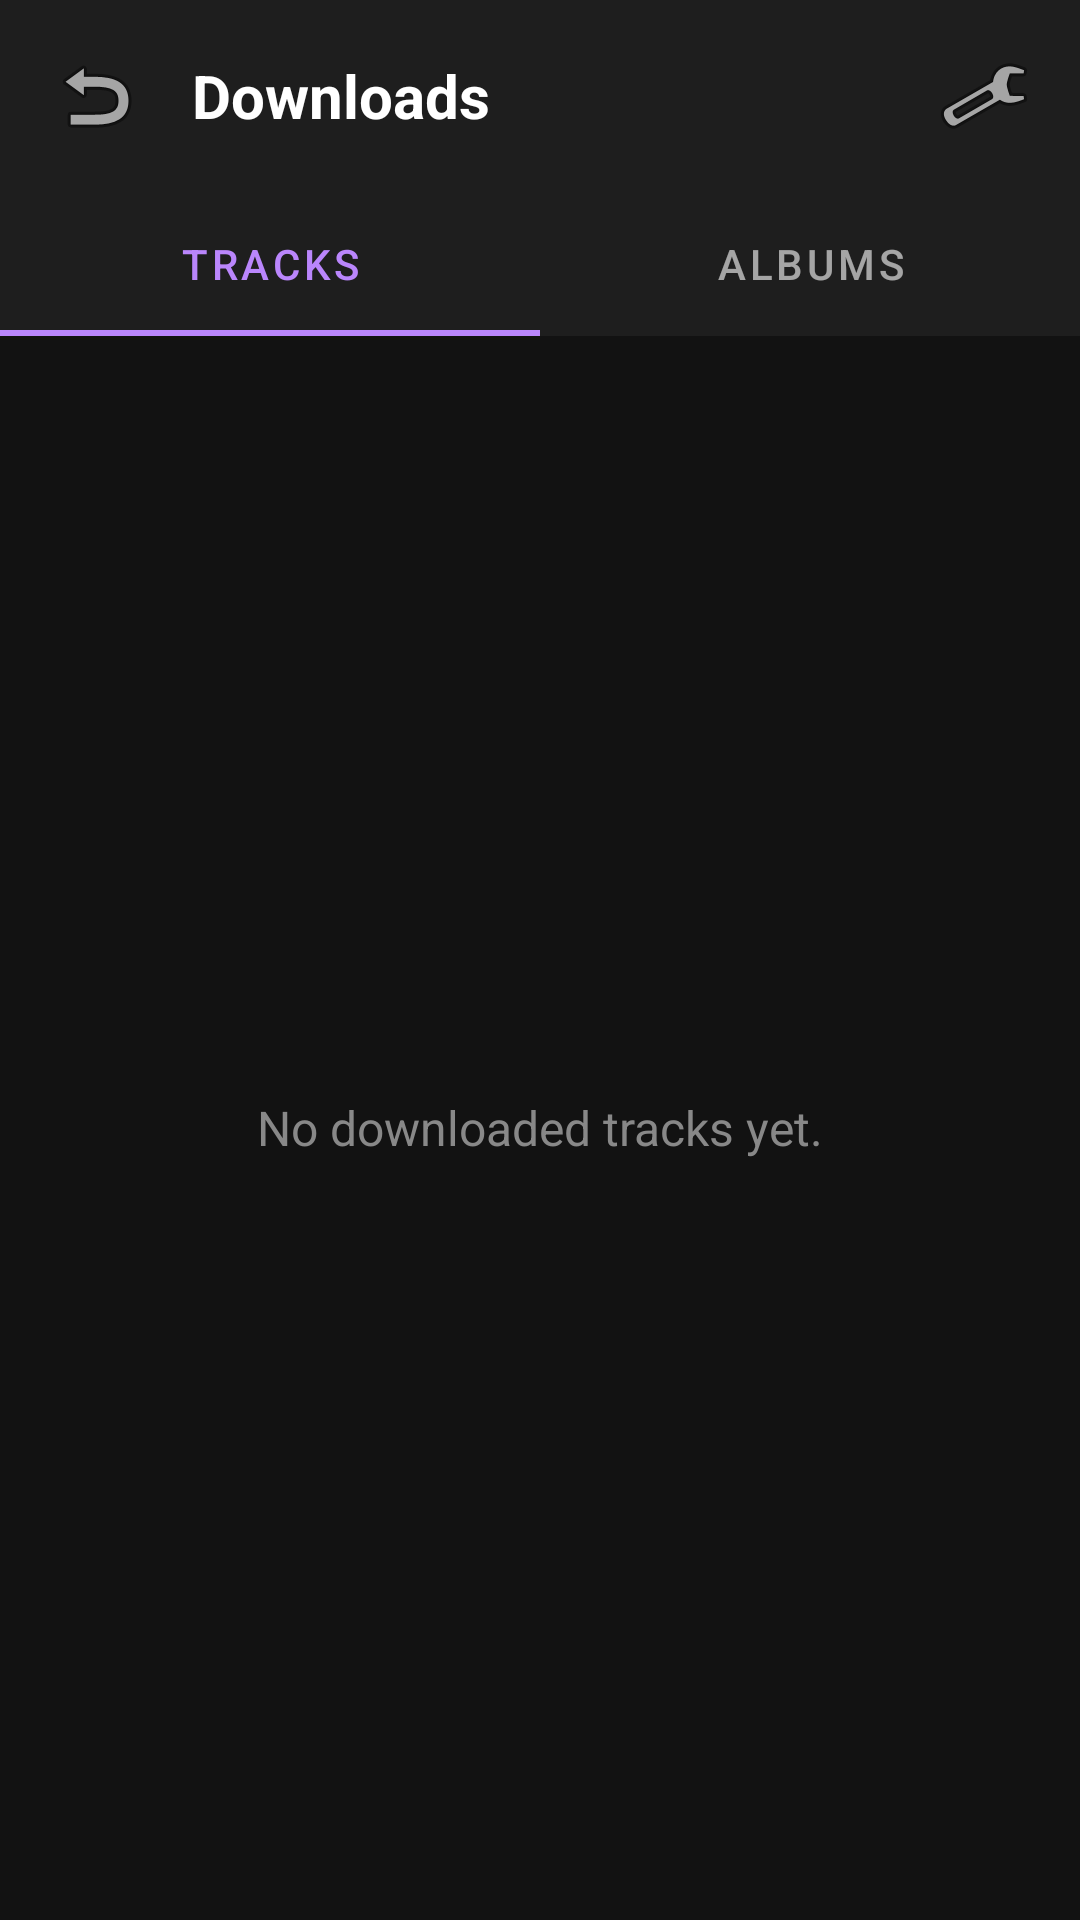

Icon bounding boxes for this 1080*1920 phone screenshot, format bbox=(x1, y1, x2, y2):
Back: bbox=(66, 68, 129, 125)
Settings: bbox=(944, 66, 1024, 126)
